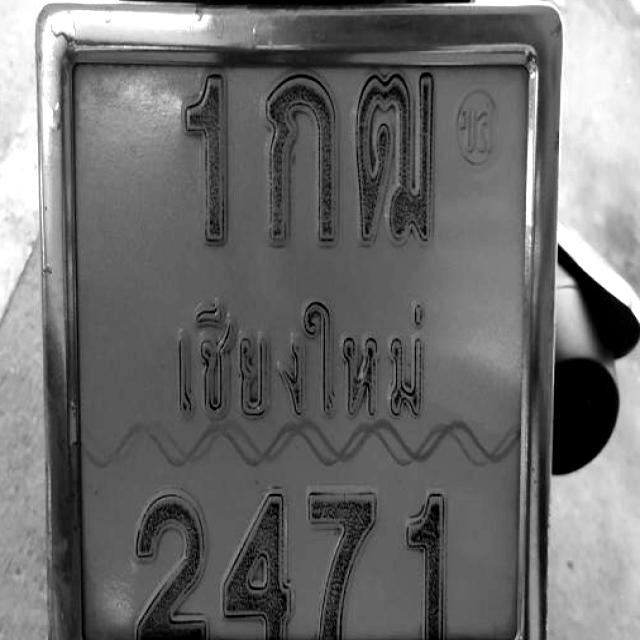letters: (159, 39, 247, 242), (361, 62, 459, 244), (263, 55, 336, 263), (118, 490, 210, 634), (218, 477, 290, 637), (408, 496, 469, 640), (311, 481, 366, 640)
license-plate: (53, 30, 545, 640)
province: (164, 314, 454, 437)
